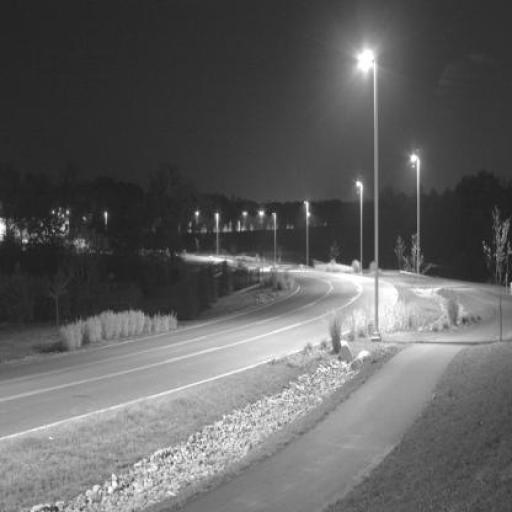street light: (360, 50, 380, 340), (410, 154, 420, 282), (357, 181, 363, 273), (304, 201, 309, 269), (273, 213, 277, 264), (260, 210, 262, 232)
